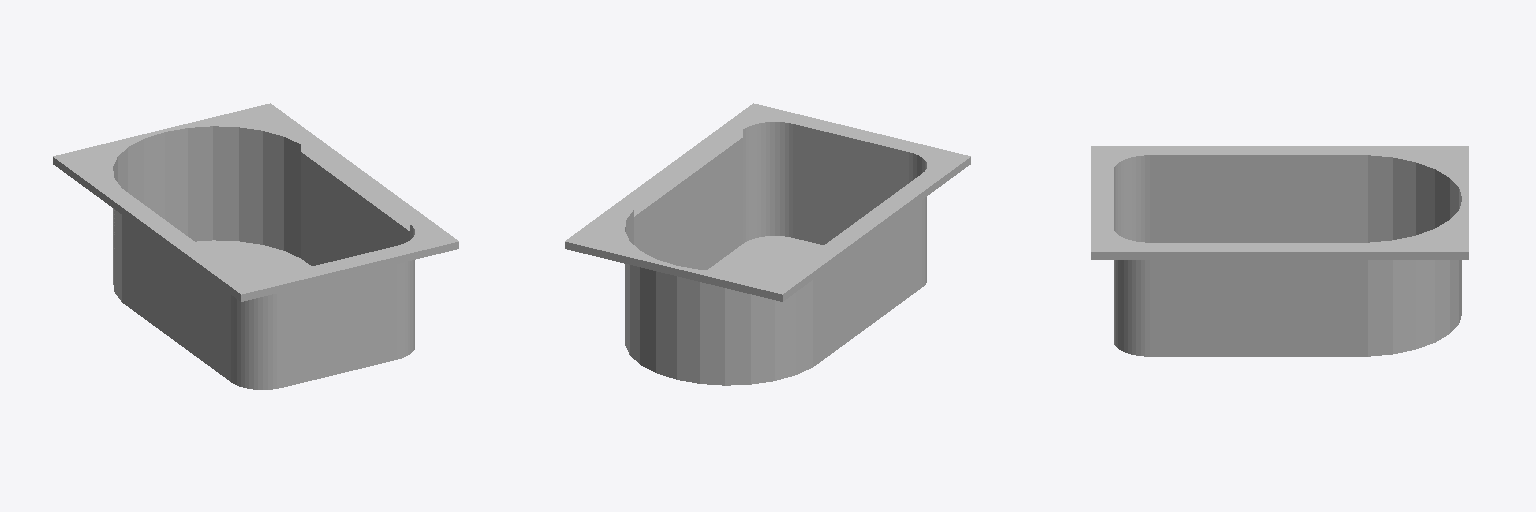
Rendered from LOTO BLANCA.obj.
The picture shows the model from 3 angles: view 1: azimuth 30°, elevation 25°; view 2: azimuth 150°, elevation 25°; view 3: azimuth 270°, elevation 25°; orthographic projection.
Visible parts, largest first — view 1: Mesh1 Group1 Model; view 2: Mesh1 Group1 Model; view 3: Mesh1 Group1 Model.
Boxes of the visible parts, box(x1,y1,x2,y2) form: Mesh1 Group1 Model: box(53, 103, 458, 389); Mesh1 Group1 Model: box(565, 103, 970, 385); Mesh1 Group1 Model: box(1091, 146, 1468, 356).
Size of the model in its own units: 80 by 40 by 120.